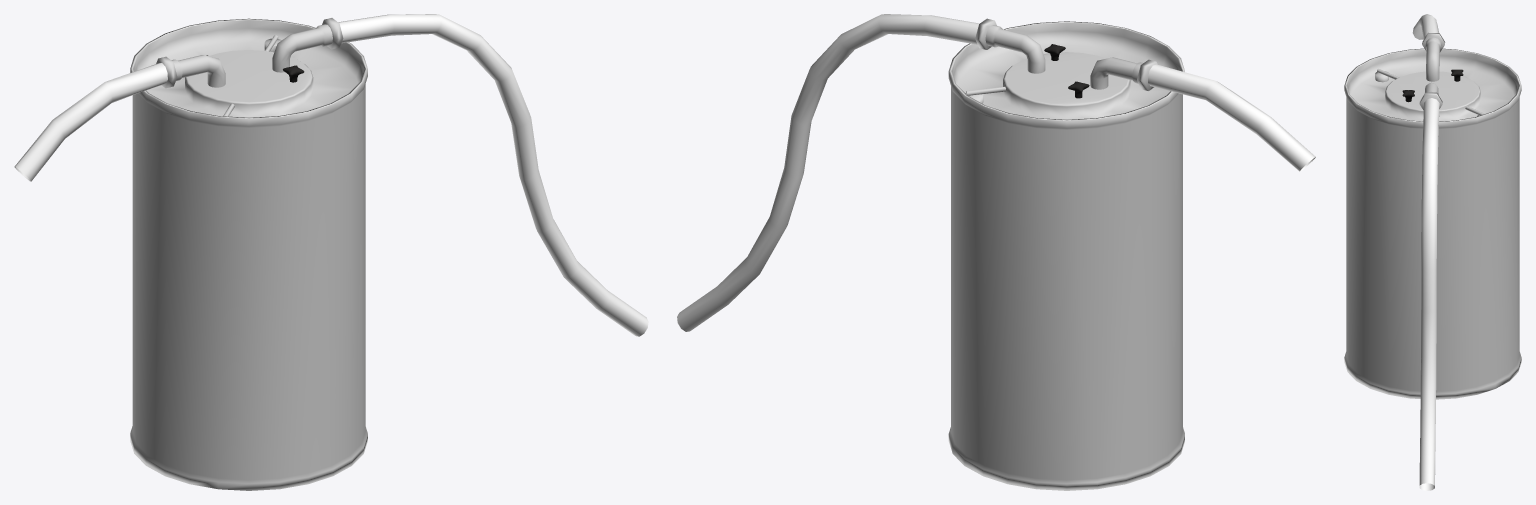
Rendered from pumpe_fass.fbx.
The picture shows the model from 3 angles, left to right: view 1: azimuth 30°, elevation 25°; view 2: azimuth 150°, elevation 25°; view 3: azimuth 270°, elevation 25°; orthographic projection. The views are drawn at different scales.
Visible parts, largest first — view 1: pumpe_fass, schlauch; view 2: pumpe_fass, schlauch; view 3: pumpe_fass, schlauch.
Part boxes in pixels (<box>): pumpe_fass: <box>130,18,367,490</box>; schlauch: <box>14,14,648,336</box>; pumpe_fass: <box>948,18,1184,490</box>; schlauch: <box>677,14,1315,331</box>; pumpe_fass: <box>1344,32,1521,399</box>; schlauch: <box>1412,14,1439,490</box>.
Bounding box in the file's own units: 169 × 102 × 54.96.
